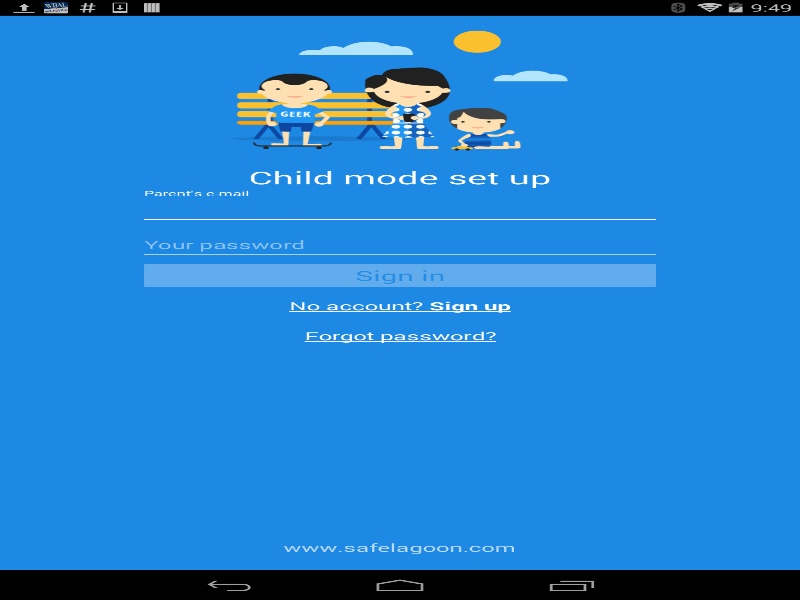Button: (138, 260, 661, 290), (273, 290, 526, 320), (288, 320, 512, 350)
Input: (138, 231, 661, 260), (138, 196, 661, 224)
